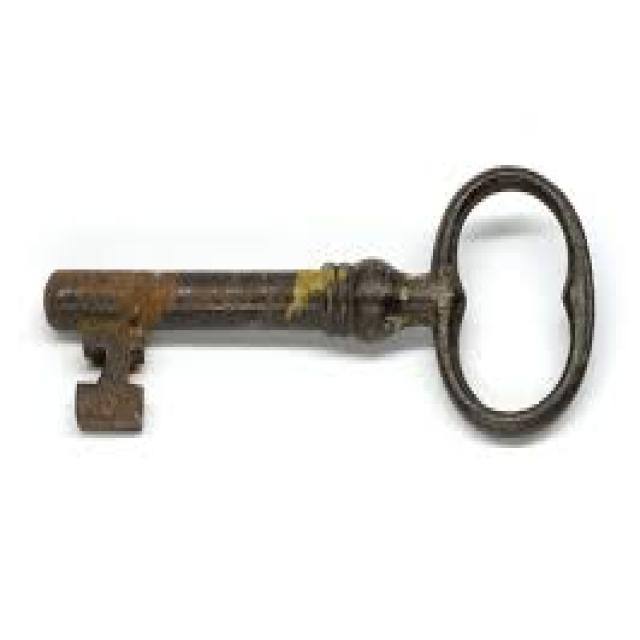key: (25, 86, 616, 539)
